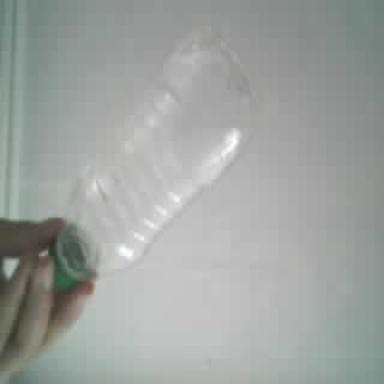bottle: (50, 29, 252, 290)
